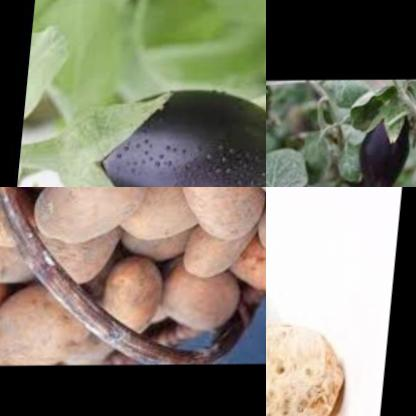celery: (266, 190, 335, 416)
eggplant: (21, 84, 266, 187), (349, 99, 416, 187)
potato: (30, 187, 172, 248), (93, 262, 177, 351), (36, 228, 139, 293), (0, 302, 96, 366), (161, 264, 250, 333), (180, 218, 266, 284), (120, 187, 216, 243), (181, 187, 266, 250), (0, 187, 43, 256), (0, 268, 28, 361), (231, 240, 266, 303)
